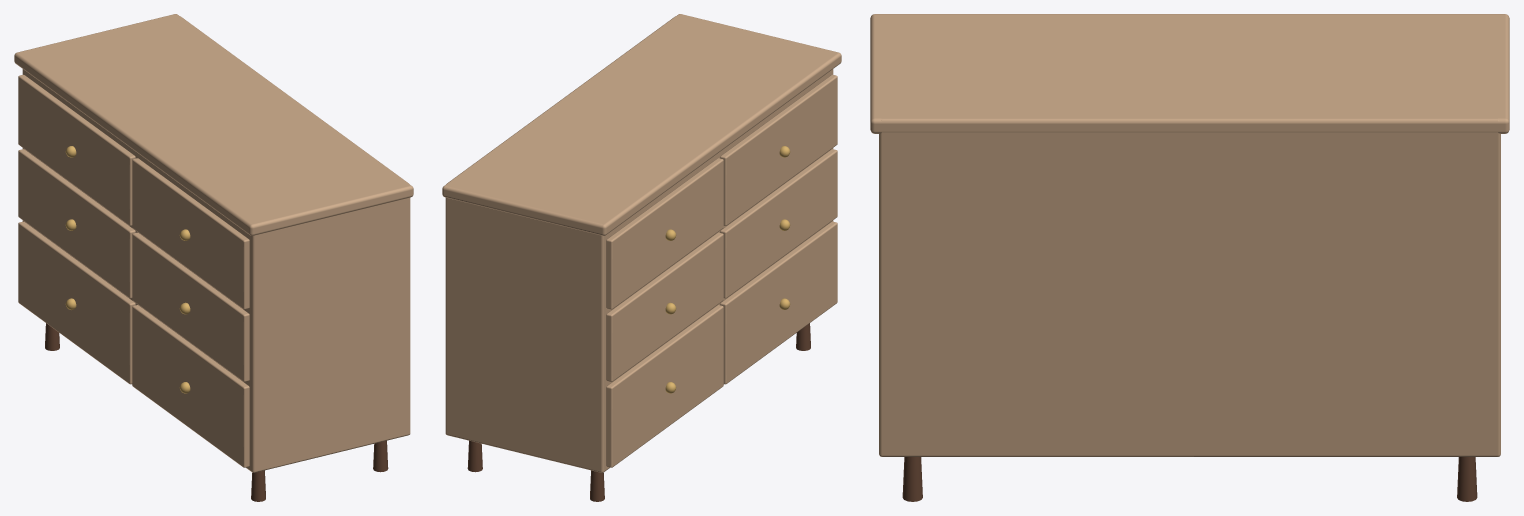
Rendered from dresser.fbx.
The picture shows the model from 3 angles, left to right: view 1: azimuth 30°, elevation 25°; view 2: azimuth 150°, elevation 25°; view 3: azimuth 270°, elevation 25°; orthographic projection. The views are drawn at different scales.
Parts seen in each view (by area): view 1: dresser, Dresser_Drawer01, Dresser_Drawer00, Dresser_Drawer21, Dresser_Drawer20, Dresser_Drawer11, Dresser_Drawer10; view 2: dresser, Dresser_Drawer00, Dresser_Drawer01, Dresser_Drawer20, Dresser_Drawer21, Dresser_Drawer10, Dresser_Drawer11; view 3: dresser.
Part boxes in pixels (x1=…): dresser: x1=14, y1=14, x2=413, y2=501; Dresser_Drawer01: x1=132, y1=305, x2=249, y2=467; Dresser_Drawer00: x1=18, y1=221, x2=135, y2=384; Dresser_Drawer21: x1=132, y1=158, x2=249, y2=309; Dresser_Drawer20: x1=18, y1=74, x2=135, y2=225; Dresser_Drawer11: x1=132, y1=232, x2=249, y2=381; Dresser_Drawer10: x1=18, y1=149, x2=135, y2=298; dresser: x1=442, y1=14, x2=841, y2=501; Dresser_Drawer00: x1=606, y1=305, x2=723, y2=467; Dresser_Drawer01: x1=720, y1=221, x2=837, y2=384; Dresser_Drawer20: x1=606, y1=158, x2=723, y2=309; Dresser_Drawer21: x1=720, y1=74, x2=837, y2=225; Dresser_Drawer10: x1=606, y1=232, x2=723, y2=381; Dresser_Drawer11: x1=720, y1=149, x2=837, y2=298; dresser: x1=870, y1=14, x2=1509, y2=501.
Bounding box in the file's own units: 0.4735 × 0.76 × 1.13.
